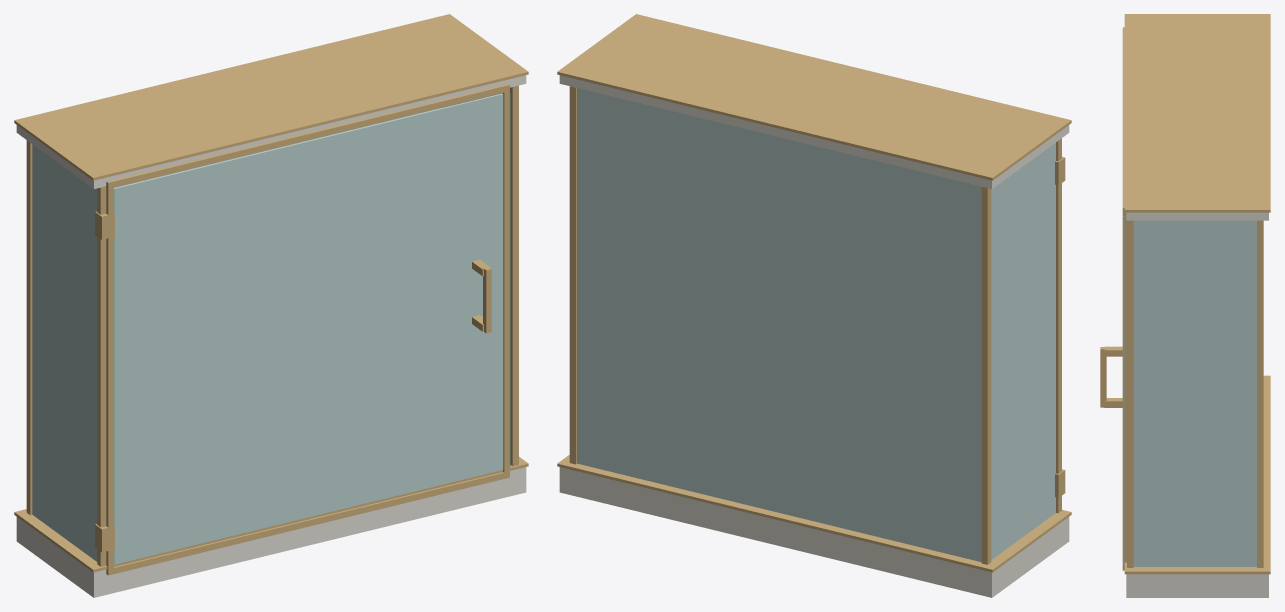
The model's file is trophy-cabinet.glb.
The picture shows the model from 3 angles, left to right: view 1: azimuth 30°, elevation 25°; view 2: azimuth 150°, elevation 25°; view 3: azimuth 270°, elevation 25°; orthographic projection. The views are drawn at different scales.
Visible parts, largest first — view 1: CabinetDoor_GlassPane, Cabinet_BrassRim_2.72, Cabinet_GlassSide, Cabinet_Plinth_0.12, CabinetDoor_Frame.003, Cabinet_Corner.003, Cabinet_Corner.001, CabinetDoor_Frame.002, CabinetDoor_Frame, Cabinet_Plinth_2.72, CabinetDoor_Frame.001, Cabinet_Corner (+2 smaller); view 2: Cabinet_GlassBack, Cabinet_BrassRim_2.72, Cabinet_GlassSide, Cabinet_Plinth_0.12, Cabinet_BrassRim_0.12, Cabinet_Plinth_2.72, Cabinet_Corner, Cabinet_Corner.002, Cabinet_Corner.001; view 3: Cabinet_GlassSide.001, Cabinet_BrassRim_2.72, Cabinet_Plinth_0.12, Cabinet_BrassRim_0.12, Cabinet_Corner.002, Cabinet_Corner.003, CabinetDoor_Frame.001, Cabinet_Plinth_2.72, CabinetDoor_GlassEdge.001, CabinetDoor_Frame.003, CabinetDoor_Handle.
Boxes of the visible parts, x1,y1,x2,y2 form: CabinetDoor_GlassPane: (114, 93, 503, 564); Cabinet_BrassRim_2.72: (14, 14, 528, 180); Cabinet_GlassSide: (32, 144, 97, 561); Cabinet_Plinth_0.12: (16, 467, 526, 597); CabinetDoor_Frame.003: (106, 83, 509, 188); Cabinet_Corner.003: (509, 85, 518, 466); Cabinet_Corner.001: (97, 186, 106, 566); CabinetDoor_Frame.002: (106, 471, 509, 575); CabinetDoor_Frame: (106, 185, 113, 572); Cabinet_Plinth_2.72: (16, 75, 526, 188); CabinetDoor_Frame.001: (502, 88, 509, 475); Cabinet_Corner: (26, 140, 32, 515); Cabinet_GlassBack: (577, 88, 981, 562); Cabinet_BrassRim_2.72: (557, 14, 1071, 180); Cabinet_GlassSide: (991, 143, 1055, 559); Cabinet_Plinth_0.12: (559, 467, 1069, 597); Cabinet_BrassRim_0.12: (557, 455, 1071, 572); Cabinet_Plinth_2.72: (559, 75, 1069, 188); Cabinet_Corner: (981, 187, 991, 564); Cabinet_Corner.002: (569, 86, 576, 464); Cabinet_Corner.001: (1056, 138, 1061, 513); Cabinet_GlassSide.001: (1133, 220, 1256, 566); Cabinet_BrassRim_2.72: (1124, 14, 1270, 212); Cabinet_Plinth_0.12: (1126, 574, 1268, 597); Cabinet_BrassRim_0.12: (1124, 375, 1270, 574); Cabinet_Corner.002: (1257, 220, 1263, 567); Cabinet_Corner.003: (1127, 220, 1133, 567); CabinetDoor_Frame.001: (1122, 214, 1126, 564); Cabinet_Plinth_2.72: (1126, 212, 1268, 220); CabinetDoor_GlassEdge.001: (1123, 216, 1124, 562); CabinetDoor_Frame.003: (1122, 27, 1126, 213); CabinetDoor_Handle: (1100, 347, 1106, 407).
Size of the model in its own units: 2.96 by 2.73 by 1.08.
